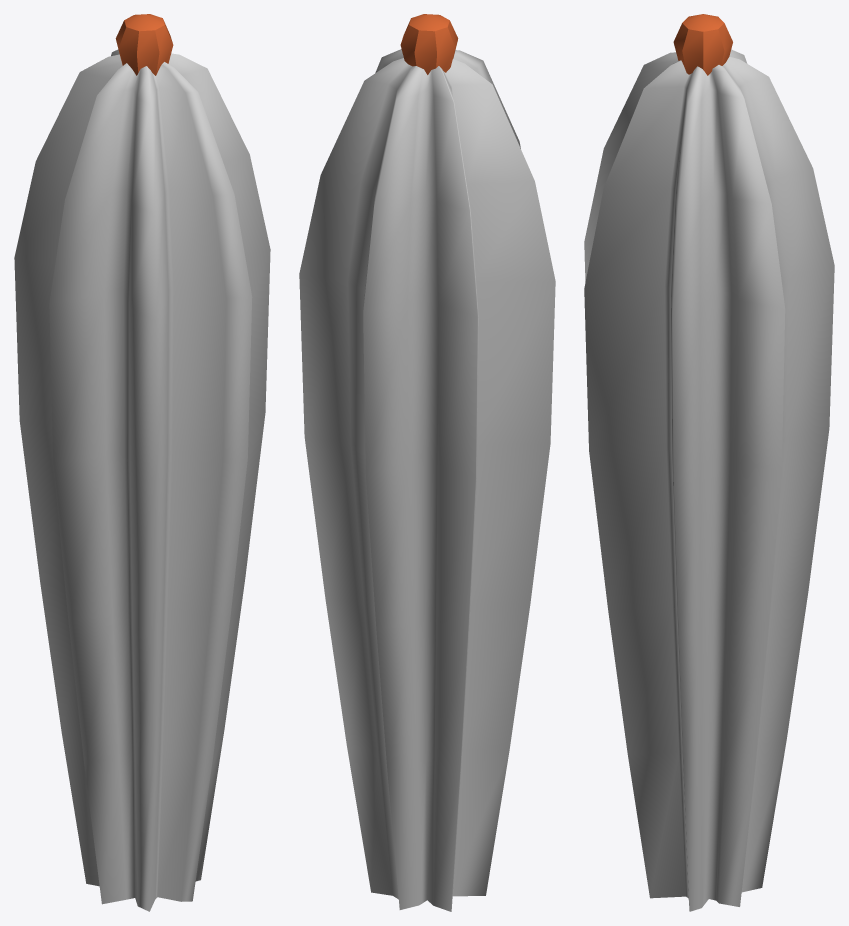
File: Tree_4.fbx
3 views of the same model, side by side, from view 1: azimuth 30°, elevation 25°; view 2: azimuth 150°, elevation 25°; view 3: azimuth 270°, elevation 25° (orthographic).
Visible parts, largest first — view 1: Cactus, Blossom; view 2: Cactus, Blossom; view 3: Cactus, Blossom.
Boxes of the visible parts, x1,y1,x2,y2 form: Cactus: [14, 49, 270, 911]; Blossom: [115, 14, 173, 75]; Cactus: [299, 49, 555, 911]; Blossom: [400, 14, 458, 74]; Cactus: [584, 49, 834, 911]; Blossom: [673, 14, 732, 75].
Size of the model in its own units: 85.55 by 322 by 83.86.
